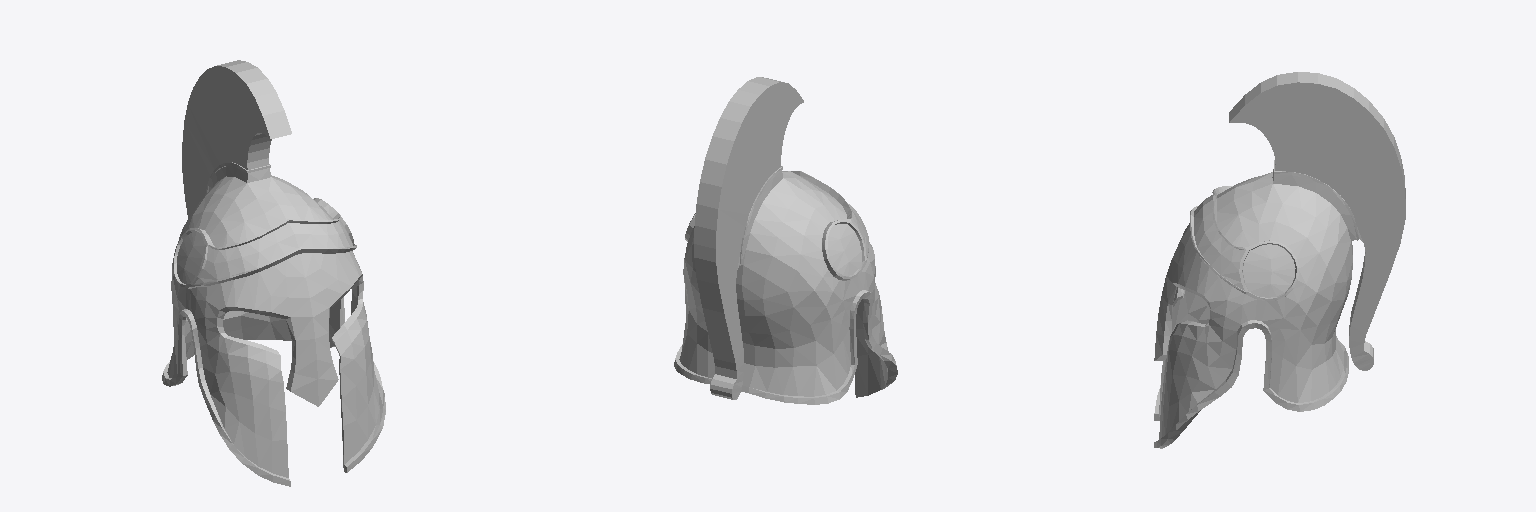
The model's file is sparta.obj.
3 renders of one model, left to right at view 1: azimuth 30°, elevation 25°; view 2: azimuth 150°, elevation 25°; view 3: azimuth 270°, elevation 25°, orthographic.
Visible parts, largest first — view 1: sparta_low; view 2: sparta_low; view 3: sparta_low.
Part boxes in pixels (left/top/right/bottom): sparta_low: left=162, top=60, right=385, bottom=486; sparta_low: left=674, top=77, right=897, bottom=404; sparta_low: left=1154, top=72, right=1405, bottom=448.
Bounding box in the file's own units: 2.39 × 4.83 × 3.08.